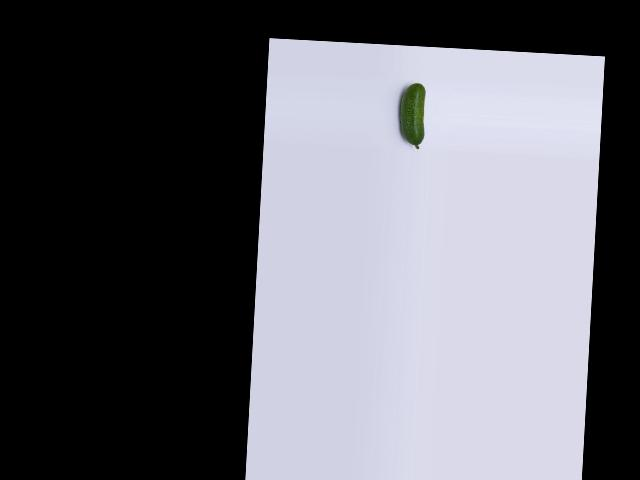cucumber: (397, 81, 426, 149)
